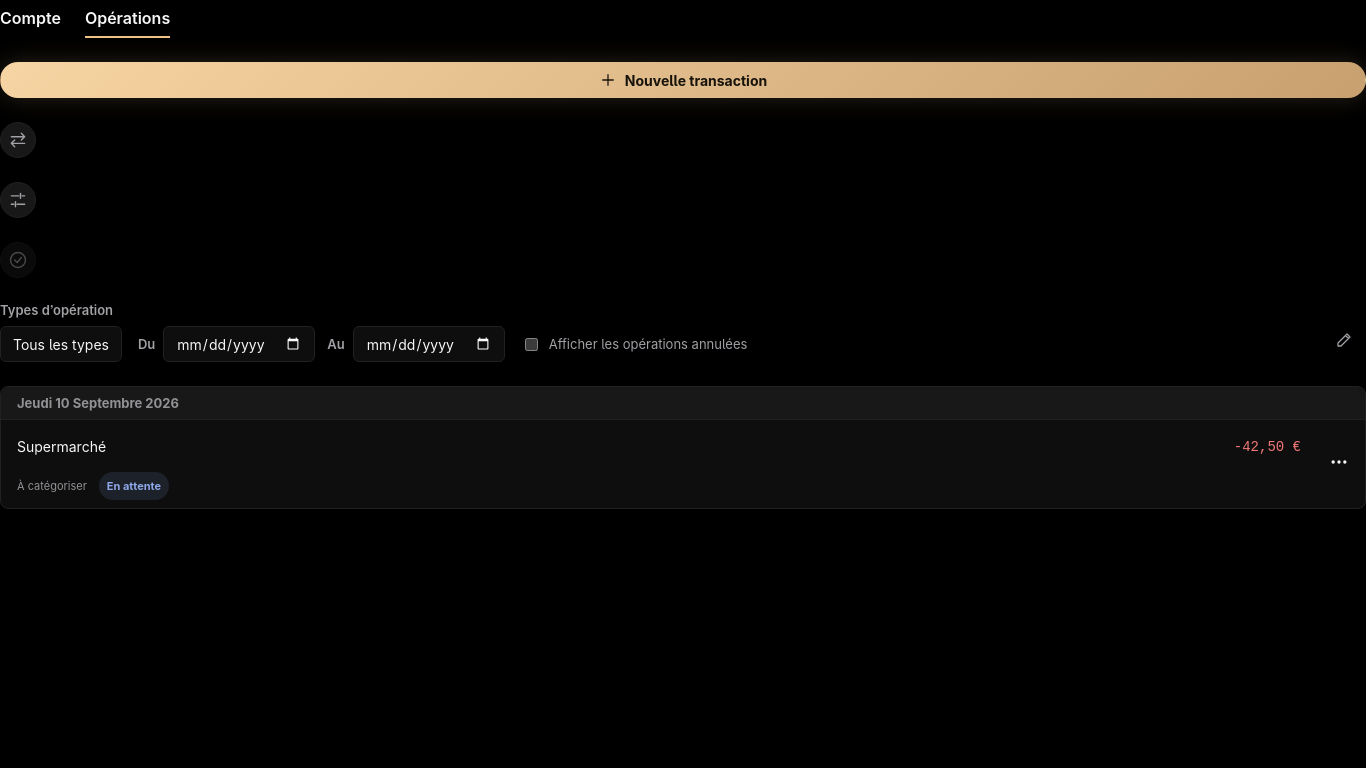
AccountDetailPage › reconciles a reviewed pending row using fresh same-account candidates
Expected: the button "Supermarché" is shown, [17,424,106,468]
Click the button named "Actions de la transaction « Supermarché »" at (1339, 462), box [1321,444,1357,480]
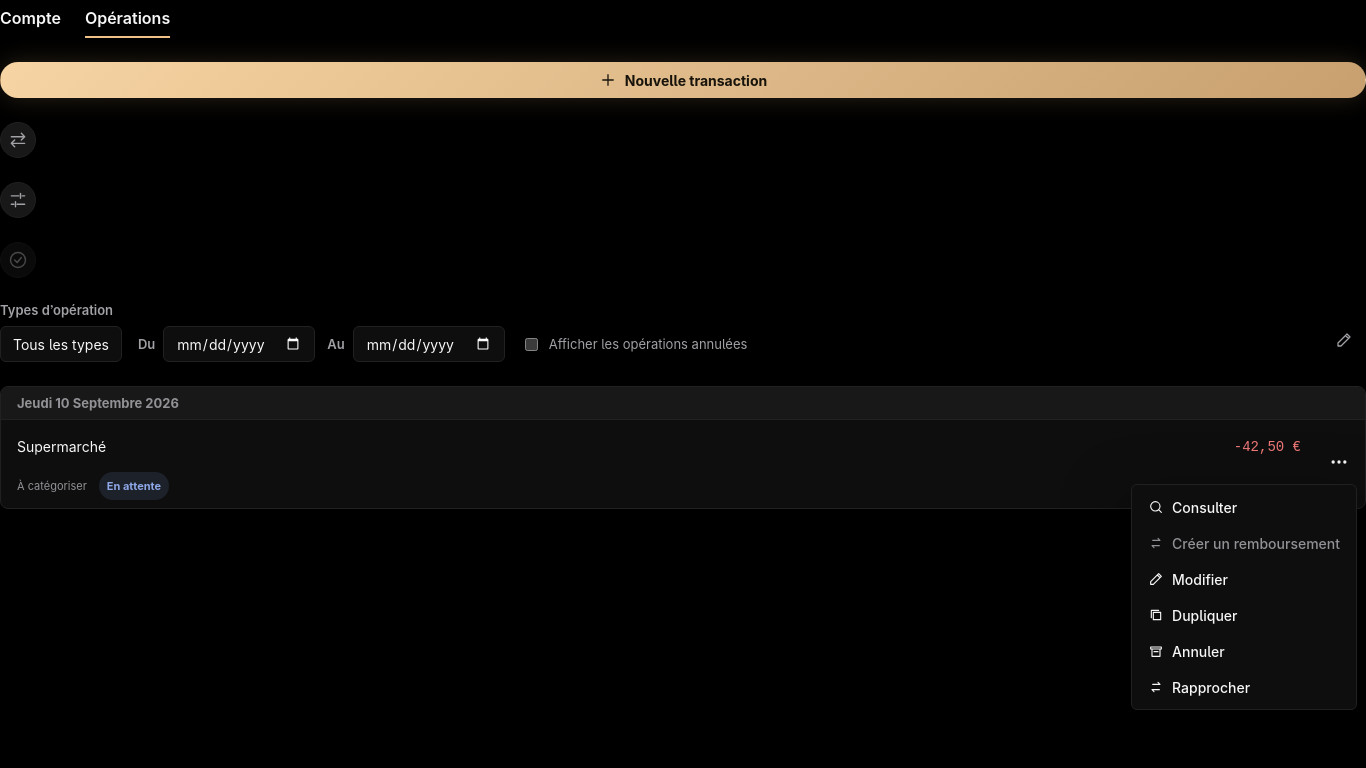
Click the button with aria-label "Rapprocher la transaction « Supermarché »" at (1244, 687), box [1136,669,1352,705]
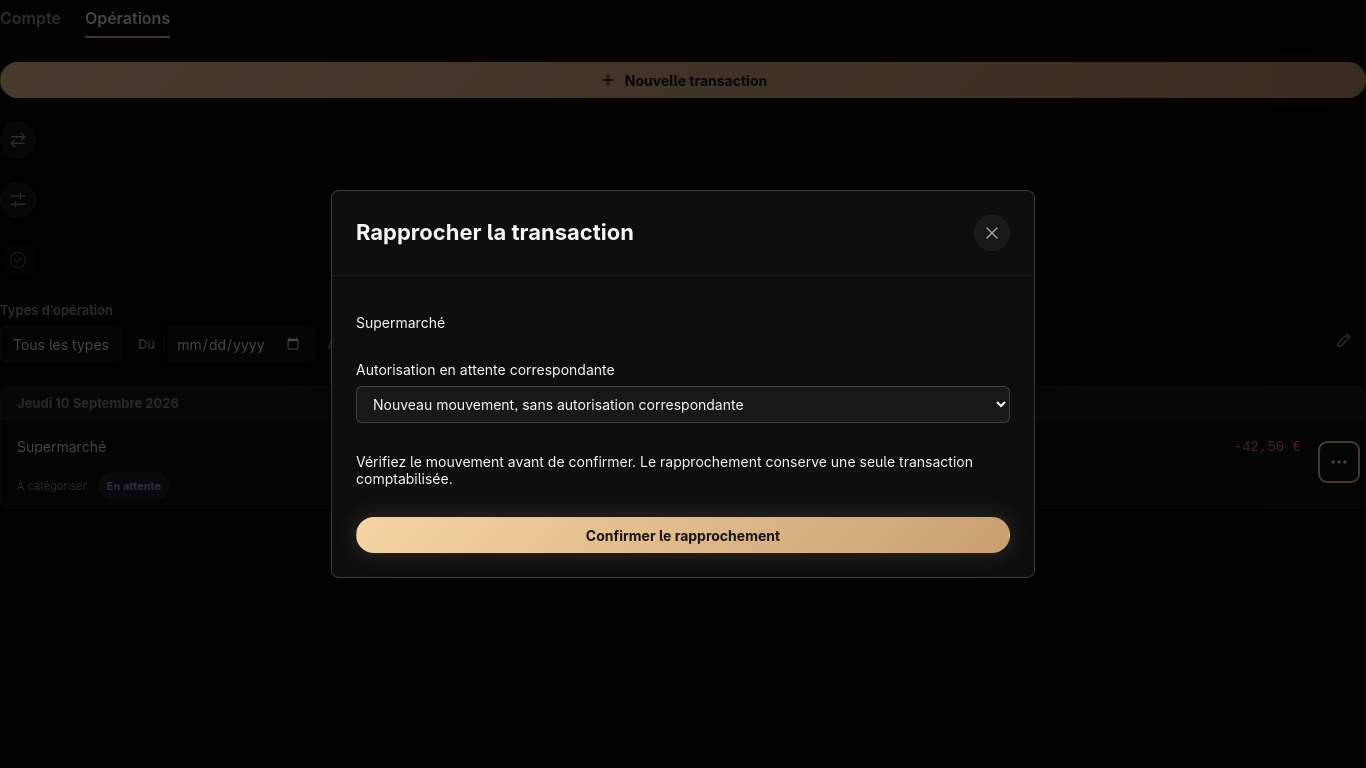
Select "Autorisation carte · 10 septembre 2026 · -42,50 €" in the dropdown labelled "Autorisation en attente correspondante" at (683, 404), box [356,386,1010,423]
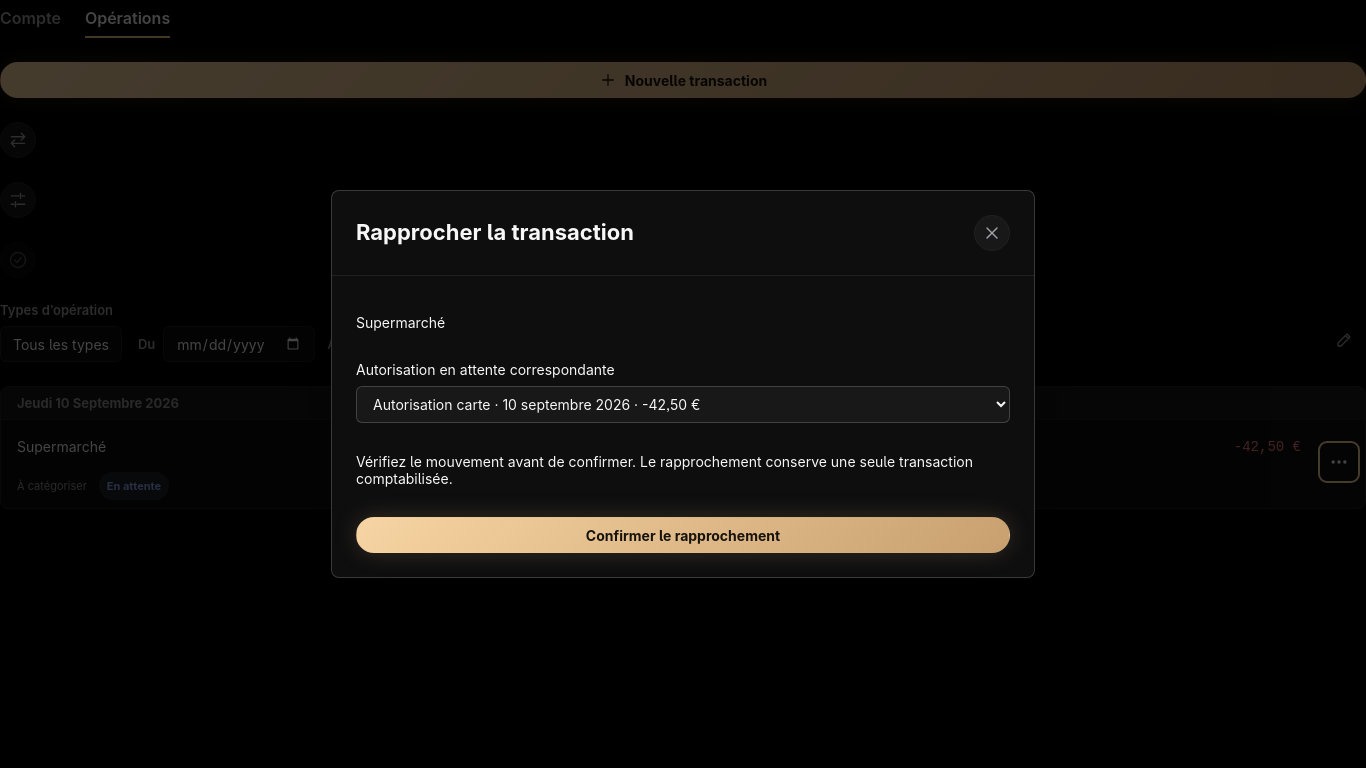
Click the button "Confirmer le rapprochement" at (683, 535), box [356,517,1010,553]
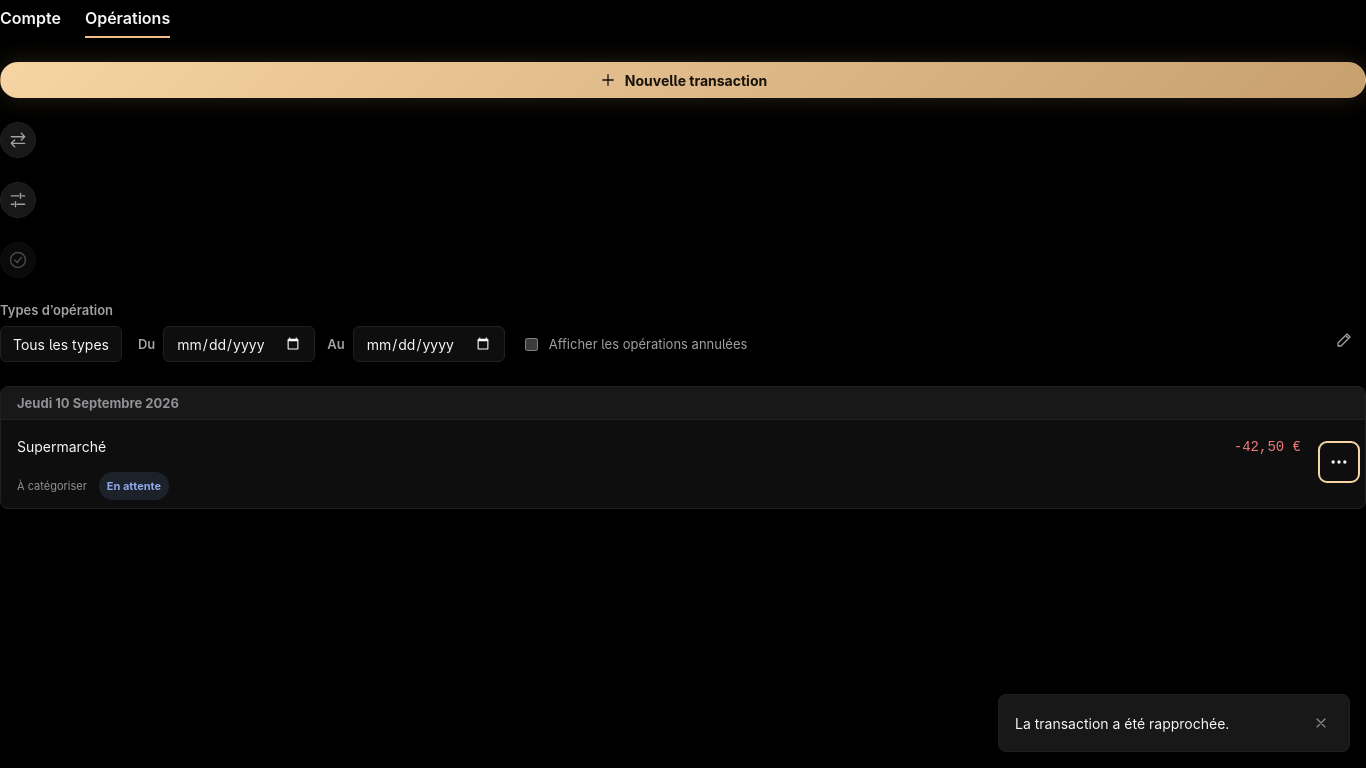
Now the text "La transaction a été rapprochée." is shown, box [1015,714,1229,732]
